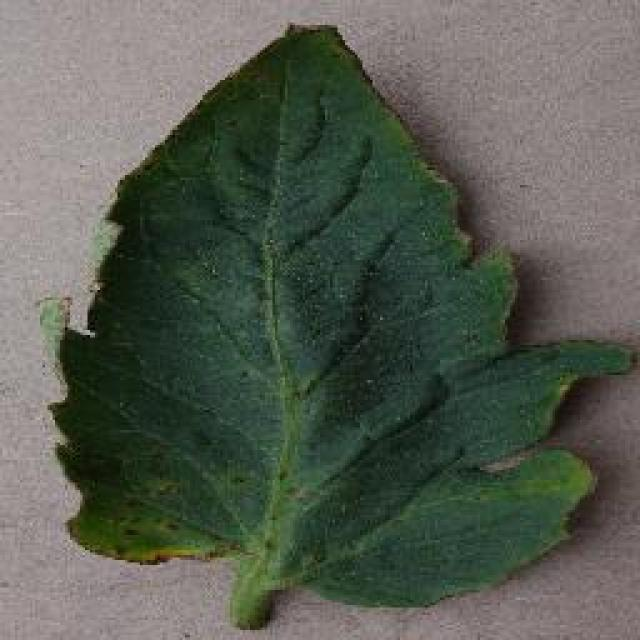Tomato___Bacterial_spot: (24, 20, 638, 634)
